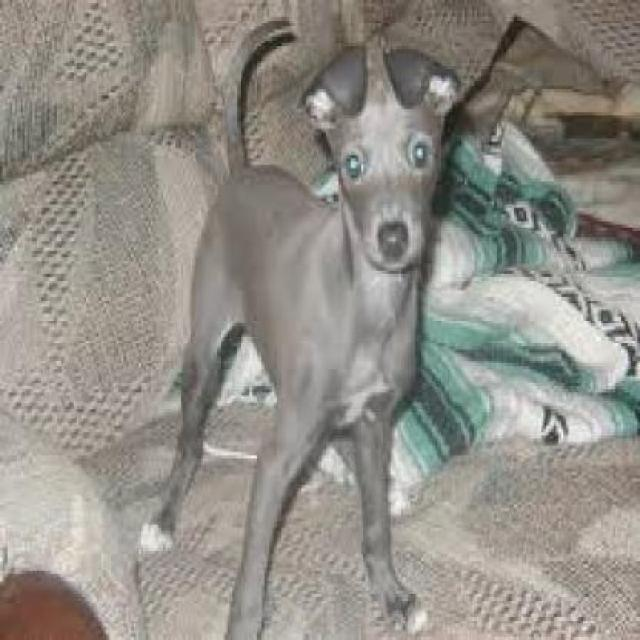animals: (144, 7, 478, 640)
